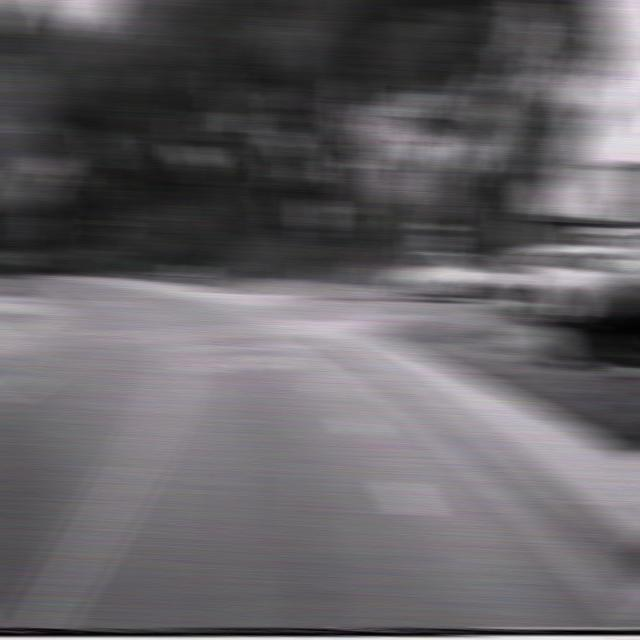stop: (376, 154, 418, 205), (302, 197, 332, 232)
